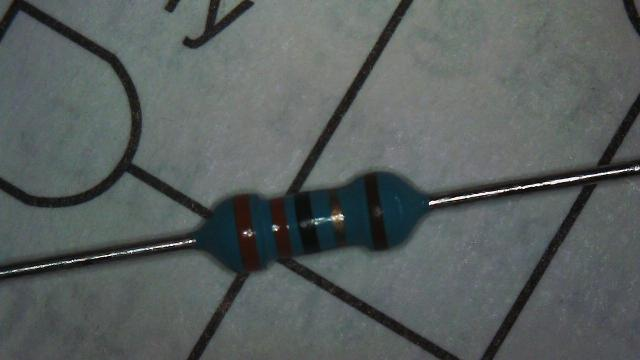black: (294, 193, 320, 255)
brown: (363, 172, 388, 250)
gold: (327, 187, 346, 246)
orange: (233, 195, 261, 272), (269, 197, 292, 259)
resistor: (185, 168, 438, 279)
